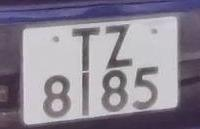1: (72, 69, 99, 119)
5: (129, 63, 164, 115)
8: (35, 68, 76, 124), (96, 66, 134, 117)
T: (67, 21, 108, 74)
Z: (101, 20, 136, 71)
